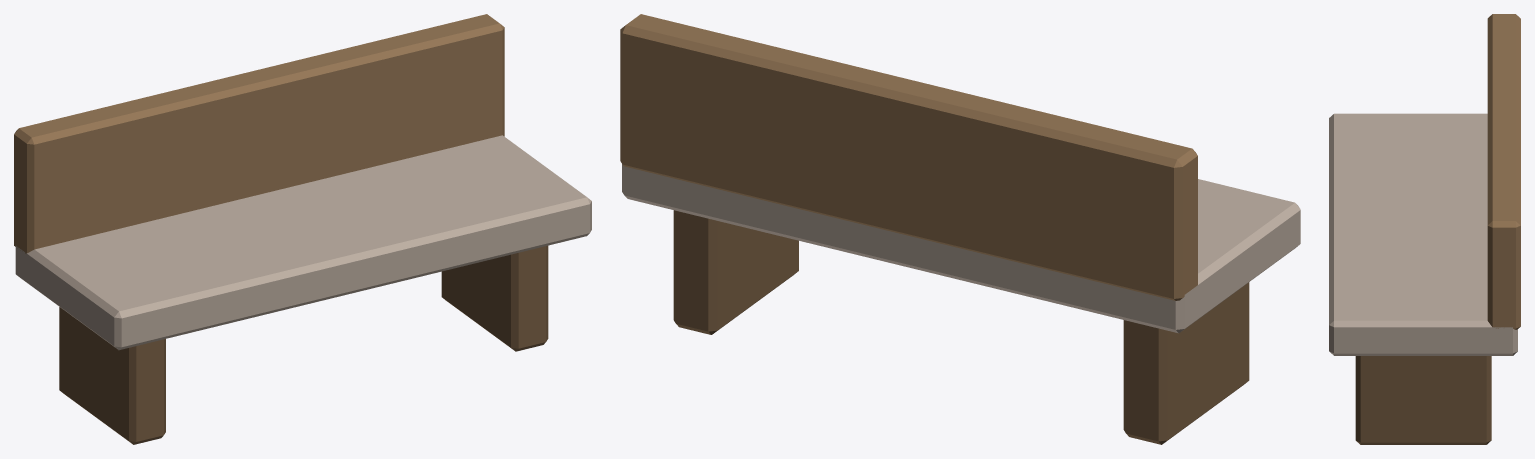
The model's file is bench.lod1.glb.
3 views of the same model, side by side, from view 1: azimuth 30°, elevation 25°; view 2: azimuth 150°, elevation 25°; view 3: azimuth 270°, elevation 25° (orthographic). The views are drawn at different scales.
Size of the model in its own units: 1.8 by 0.9405 by 0.69.
